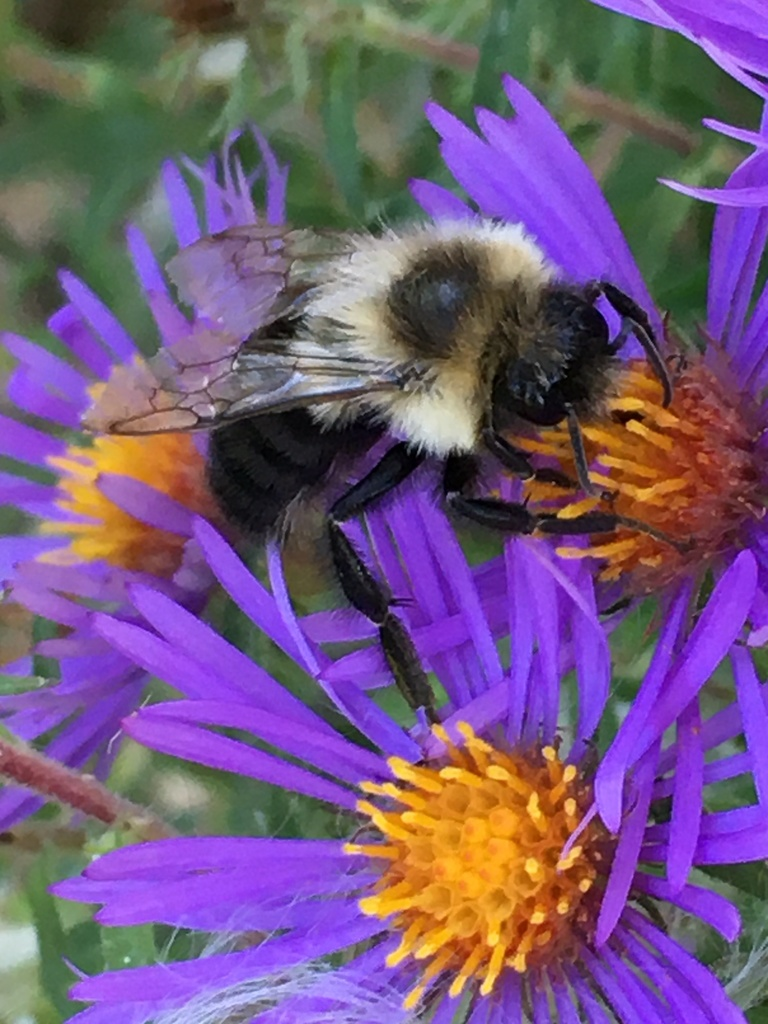bumblebee: (79, 214, 692, 726)
